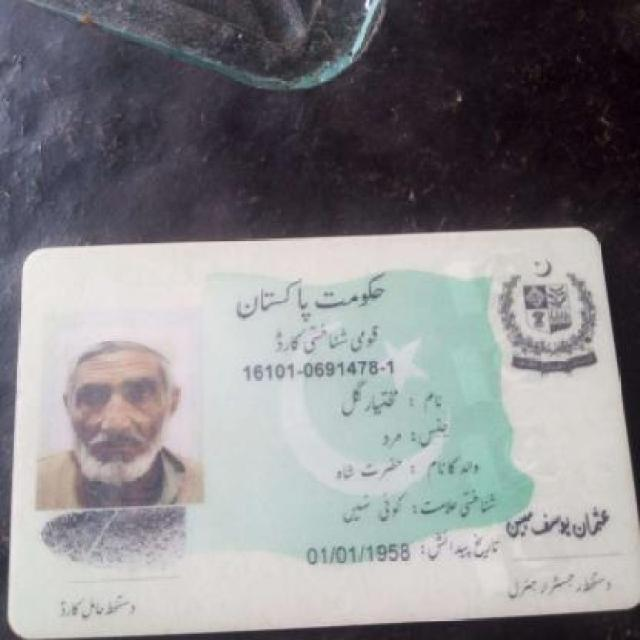Front: (9, 228, 636, 623)
